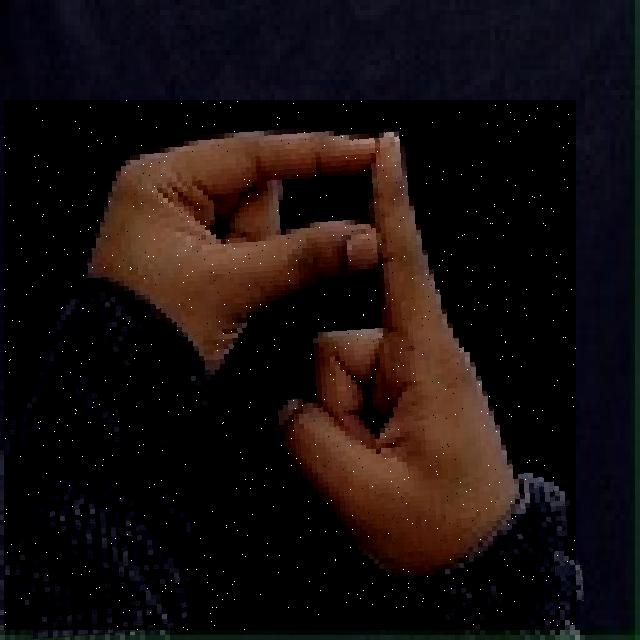P: (4, 100, 576, 630)
